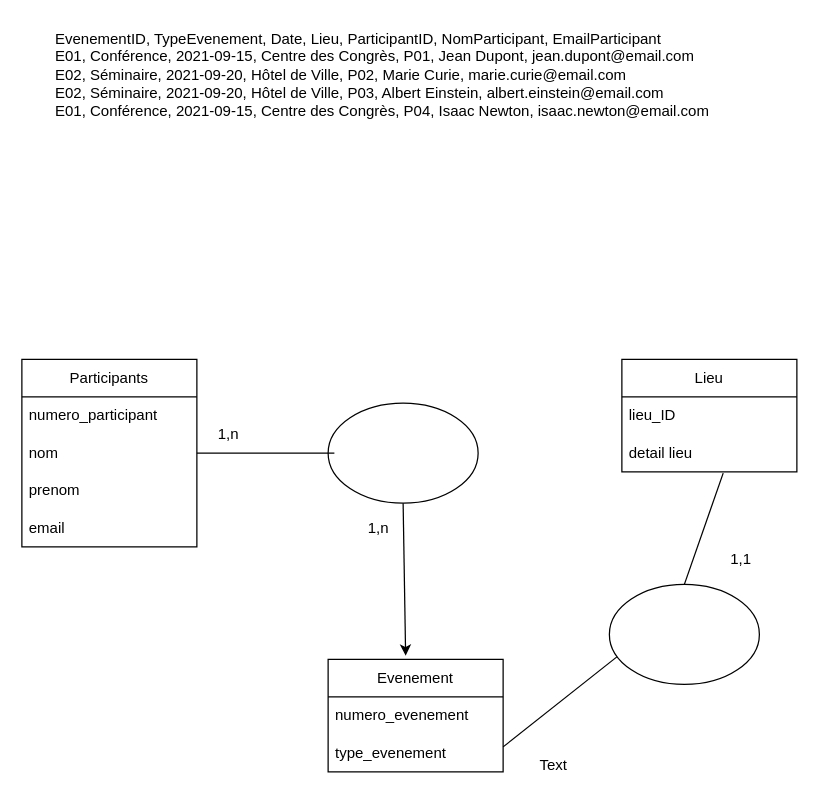
Some shapes in this 819 by 805 pixel diagram are drawn without their labels. Each missing label, with the centre of its shape:
"Participe" belongs at point (402, 452).
"Se déroule" belongs at point (683, 633).
